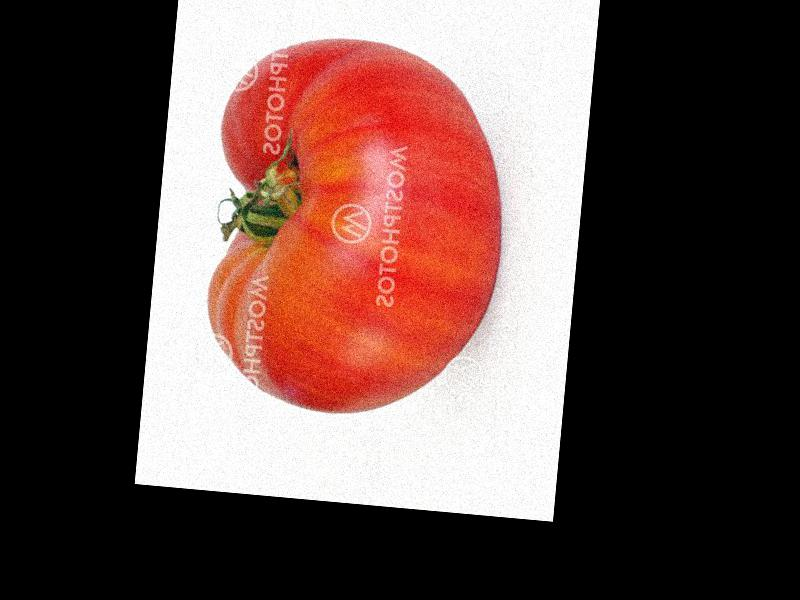Tomato: (196, 29, 516, 426)
